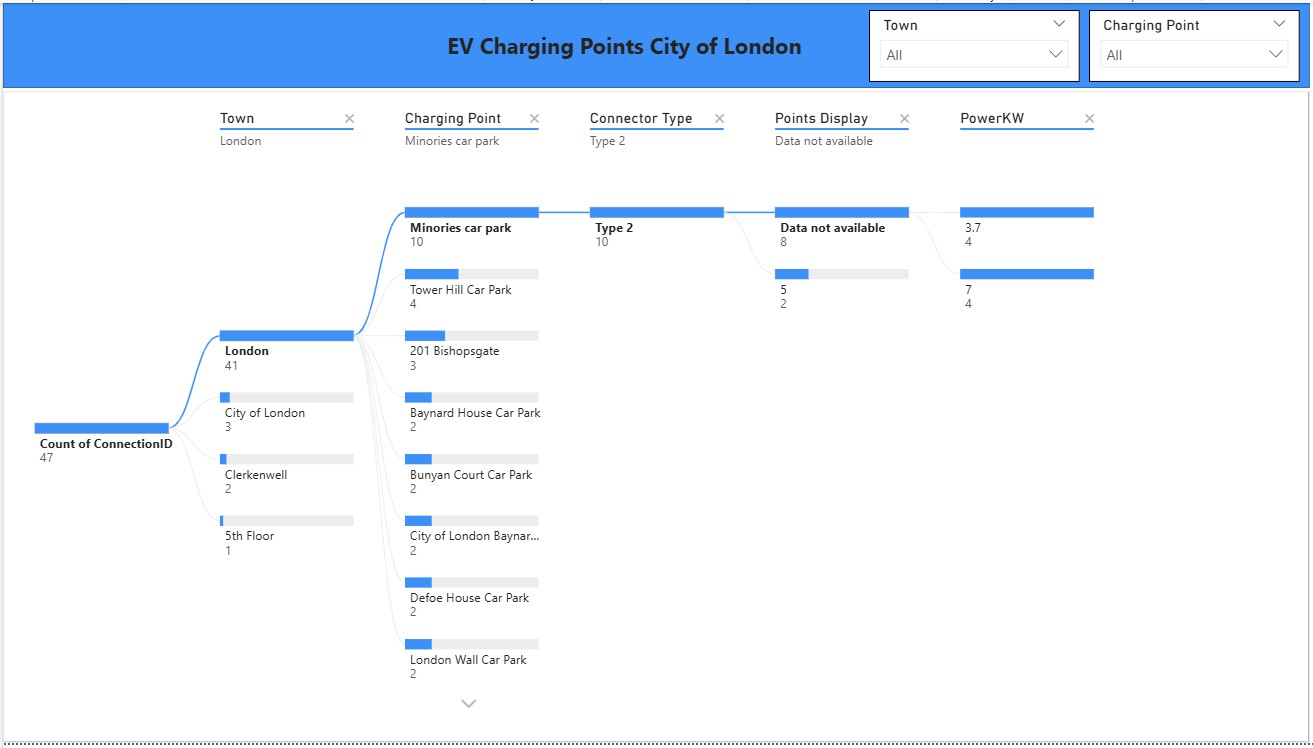

Layout of this report page (visuals, bound fields, positions):
{"tool":"powerbi","page":{"name":"Page 2","canvas":[1280,720],"ordinal":1},"visuals":[{"type":"decompositionTreeVisual","fields":{"ExplainBy":["geo_london.Town","geo_london.Title","geo_london.Connector Type","geo_london.Points Display","geo_london.PowerKW"],"Analyze":["CountNonNull(geo_london.ConnectionID)"]},"box":[0,85.6,1271.2,634.2],"z":0},{"type":"shape","box":[0,0,1271.2,82.7],"z":1000},{"type":"textbox","box":[322.9,21.4,563.2,45.7],"z":2000},{"type":"slicer","fields":{"Values":["geo_london.Town"]},"box":[842.3,6.8,205.2,70],"z":3000},{"type":"slicer","fields":{"Values":["geo_london.Title"]},"box":[1056.3,6.8,205.2,70],"z":4000}]}

Visuals, with their boxes in screenshot pixels (x1, y1, x2, y2), scaled from the page's 1280x720 canvas onto the 1313x748 screenshot:
decompositionTreeVisual - geo_london.Town x geo_london.Title: (left=0, top=89, right=1304, bottom=747)
shape: (left=0, top=0, right=1304, bottom=86)
textbox: (left=331, top=22, right=909, bottom=70)
slicer - geo_london.Town: (left=864, top=7, right=1075, bottom=80)
slicer - geo_london.Title: (left=1084, top=7, right=1294, bottom=80)
